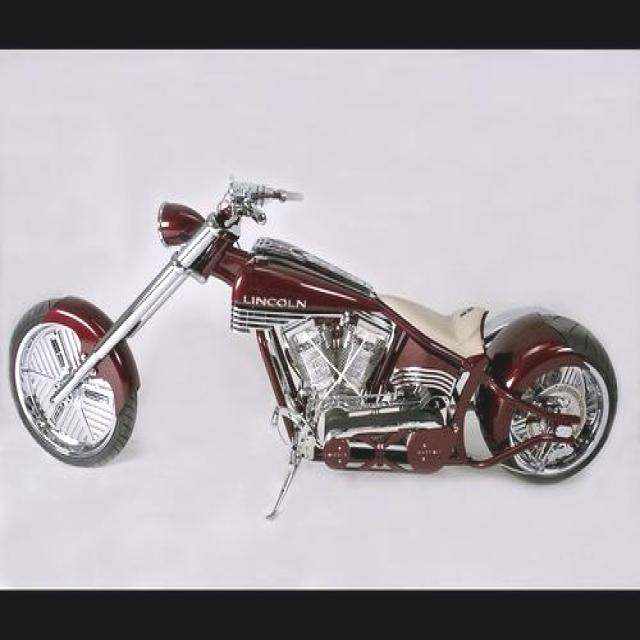Cycle: (16, 86, 623, 555)
